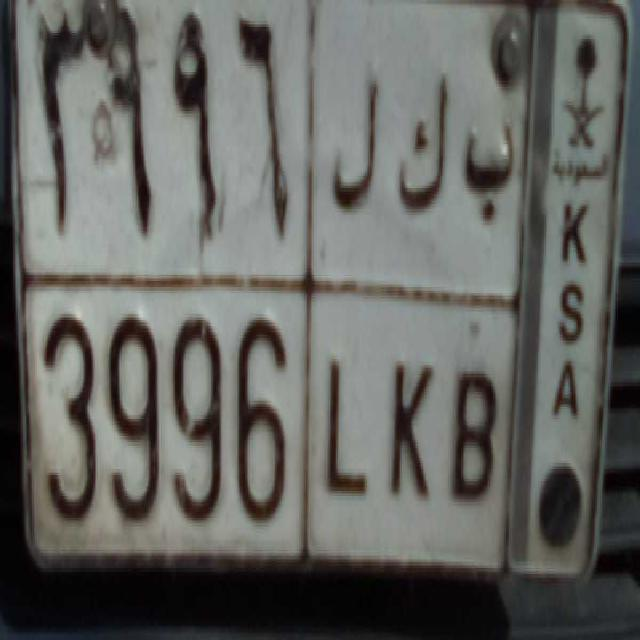license_plate: (33, 269, 503, 596)
